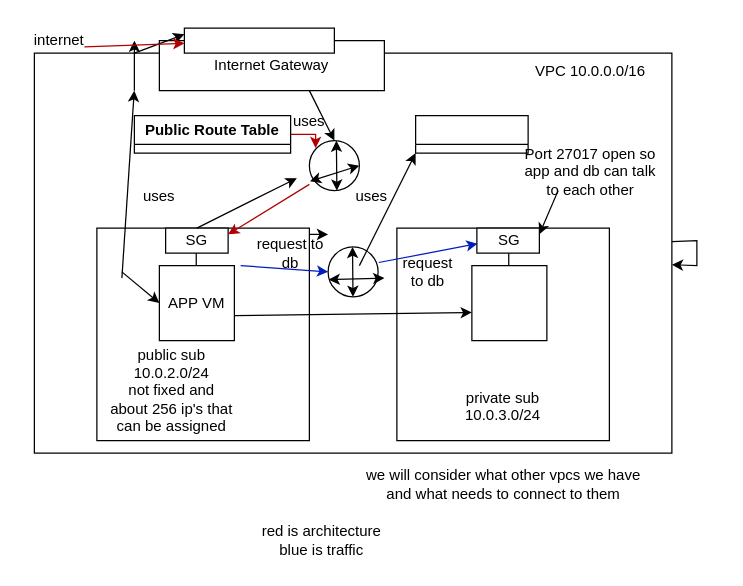
The diagram is 743 pixels wide and 586 high, and some of its shapes have lost their labels. Each missing label, with the centre of its shape:
DB VM: pixel 509 302
Public Ip: pixel 258 40
Route table: pixel 471 133
